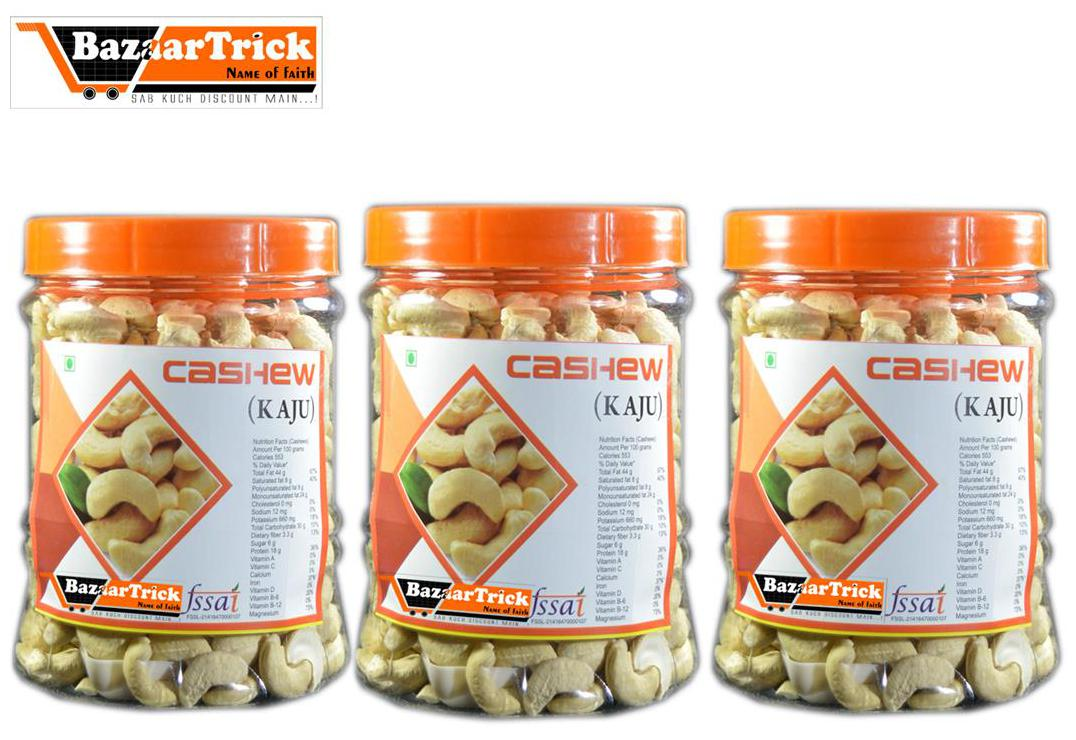JAR: (354, 195, 704, 721), (708, 203, 1059, 713), (7, 204, 350, 711)
